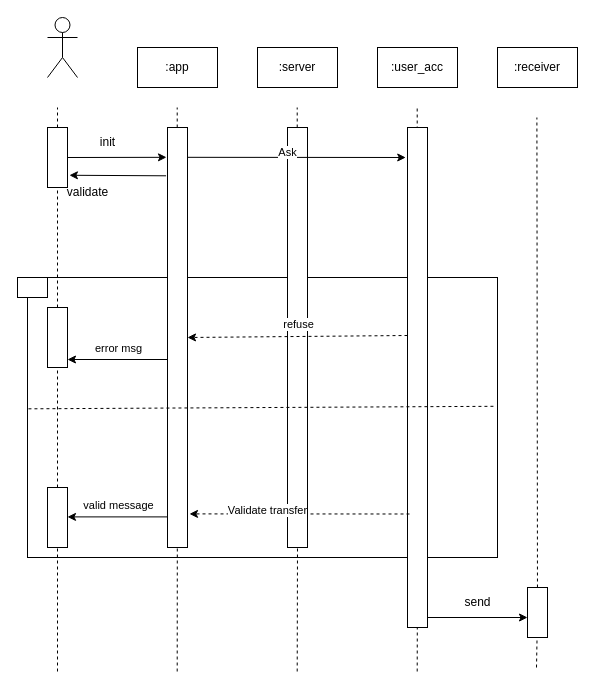
The diagram is 595 pixels wide and 690 high, and some of its shapes have lost their labels. The shapes that lost their labels are listed below. From the top down, each one's centre as x and y in pixels, then its label:
At (62,47): ":client".
At (32,287): "alt".
